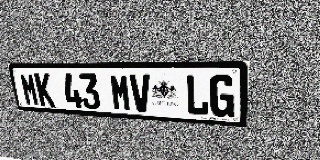3: (79, 73, 101, 110)
4: (62, 73, 83, 108)
G: (210, 74, 235, 118)
K: (34, 73, 55, 107)
L: (185, 74, 209, 116)
M: (109, 74, 132, 111), (19, 73, 40, 106)
V: (129, 74, 152, 113)
